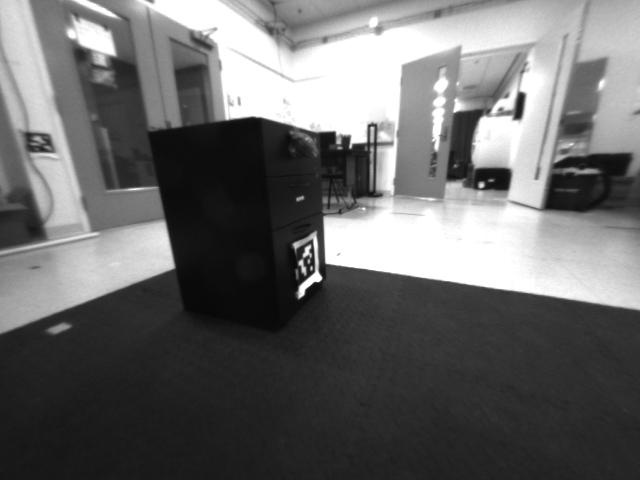drawer: (276, 122, 326, 167)
